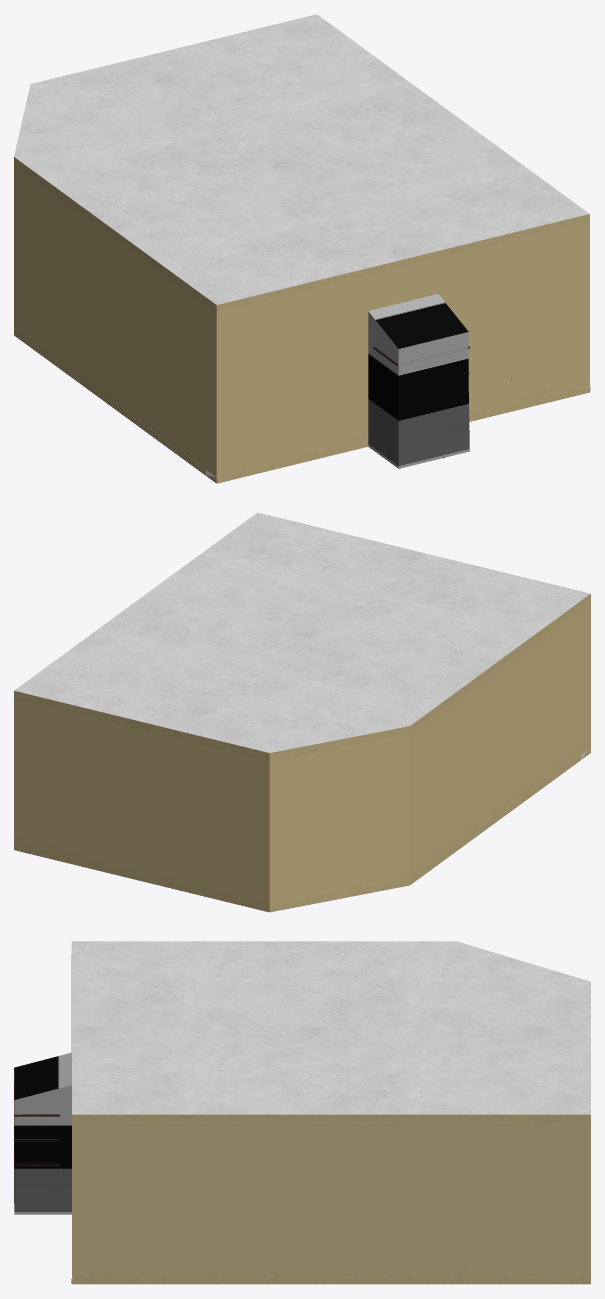
Rendered from bedroom.fbx.
3 renders of one model, top to bottom at view 1: azimuth 30°, elevation 25°; view 2: azimuth 150°, elevation 25°; view 3: azimuth 270°, elevation 25°, orthographic. The views are drawn at different scales.
Visible parts, largest first — view 1: bedroom; view 2: bedroom; view 3: bedroom.
Part boxes in pixels (<box>): bedroom: <box>14,14,590,483</box>; bedroom: <box>14,512,590,912</box>; bedroom: <box>14,941,590,1284</box>.
Bounding box in the file's own units: 581 × 265 × 814.
